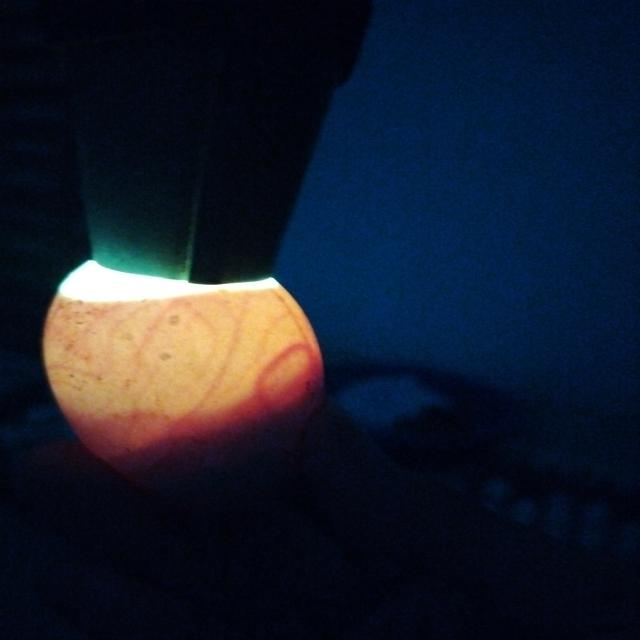Embriao: (80, 367, 331, 499)
